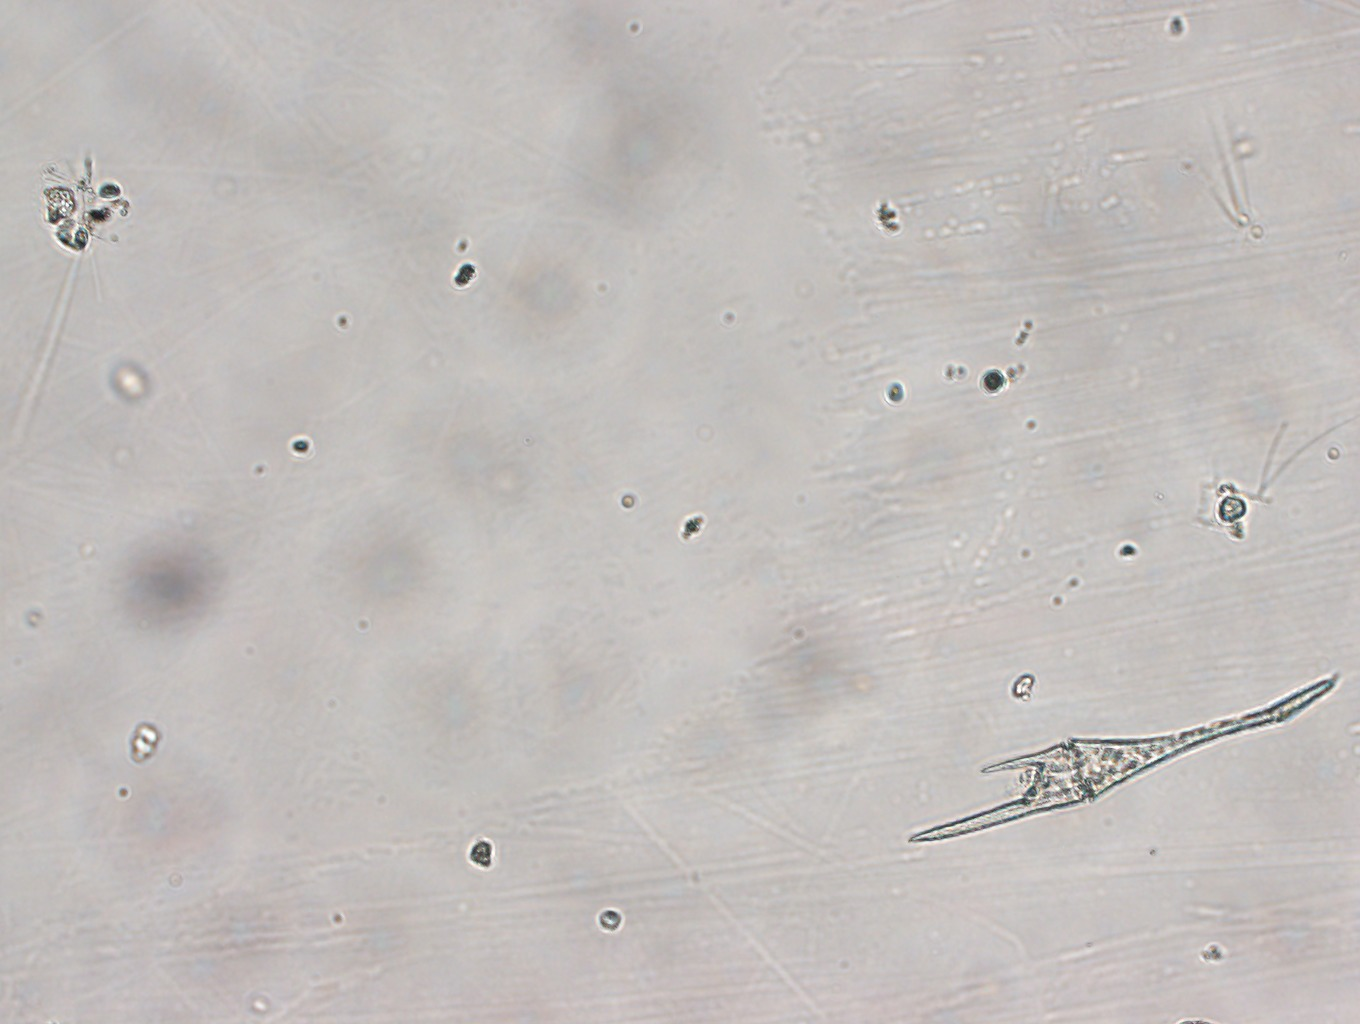ceratium furca: (907, 664, 1337, 851)
